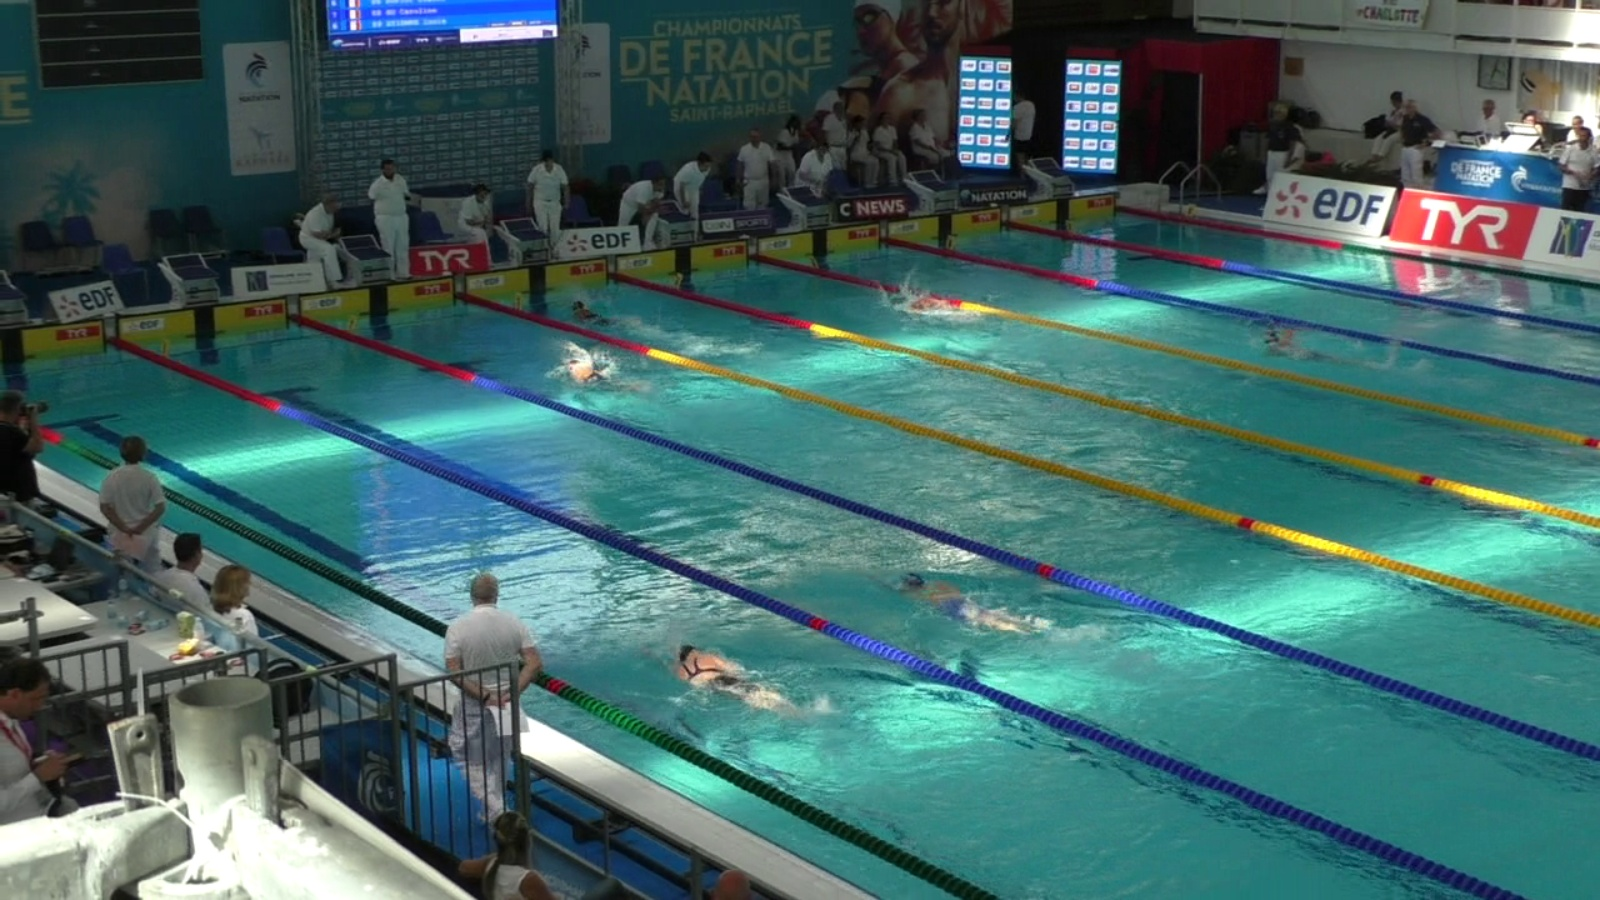swimmerw: (657, 633, 819, 736), (885, 568, 1055, 641), (1255, 323, 1357, 367), (886, 291, 986, 332), (563, 351, 649, 396), (566, 299, 649, 337)
